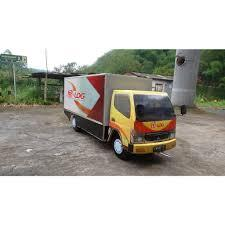truck: (102, 81, 191, 168)
